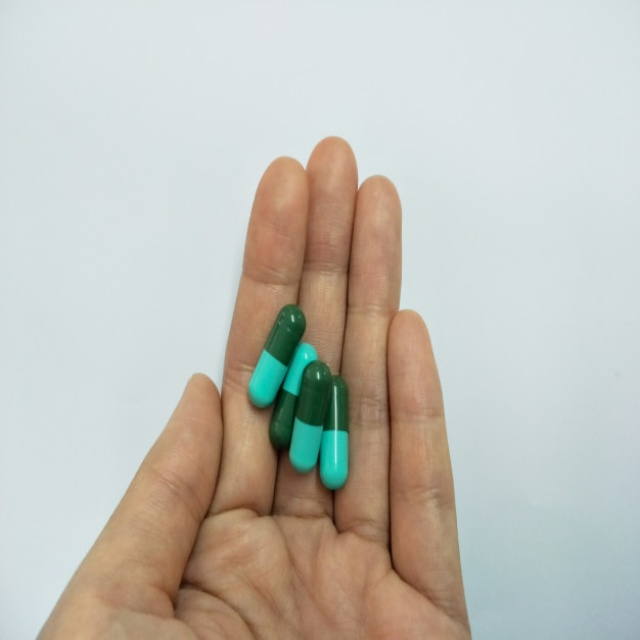pill: (241, 222, 299, 300), (263, 249, 307, 329), (281, 265, 322, 346), (312, 273, 342, 359)
